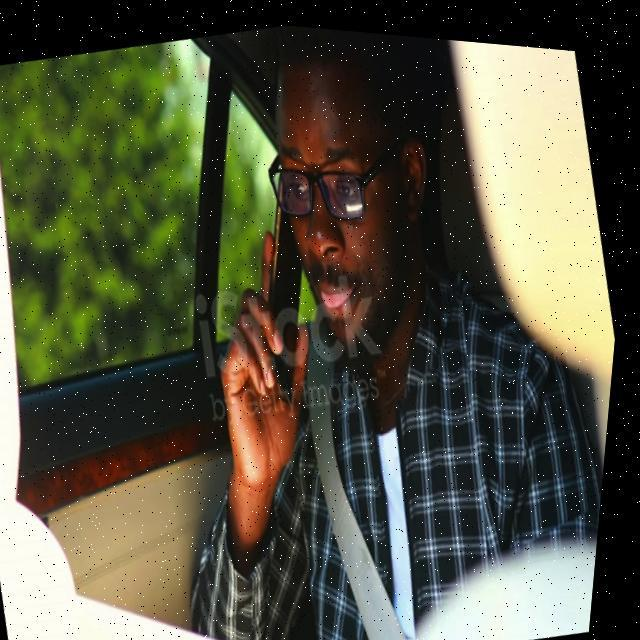PhoneCall: (225, 144, 350, 404)
